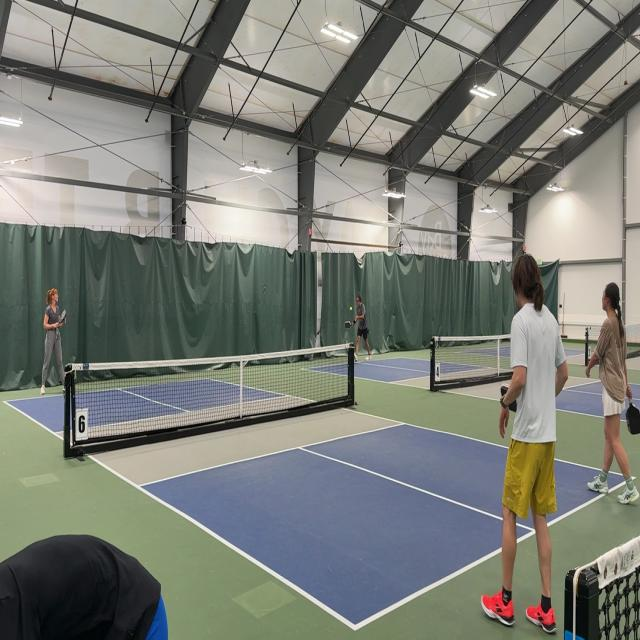ball: (349, 305, 353, 311)
